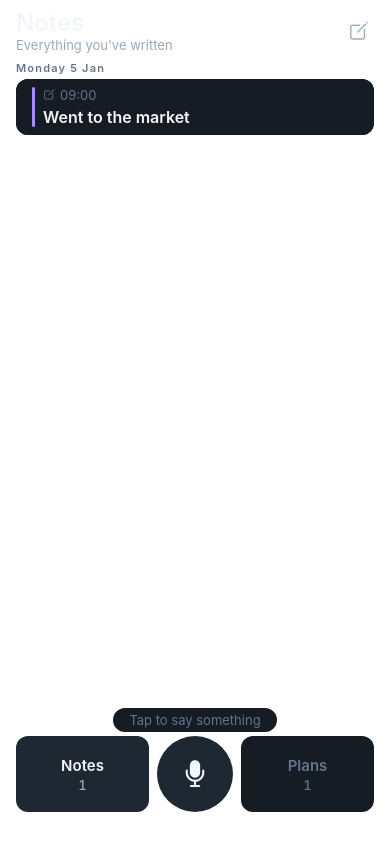
Test: notes and plans › stops a running recording when the other list is pressed
Step 1. Click the tab with aria-label "Plans, 1 entry" → (308, 774), box [241,736,374,812]
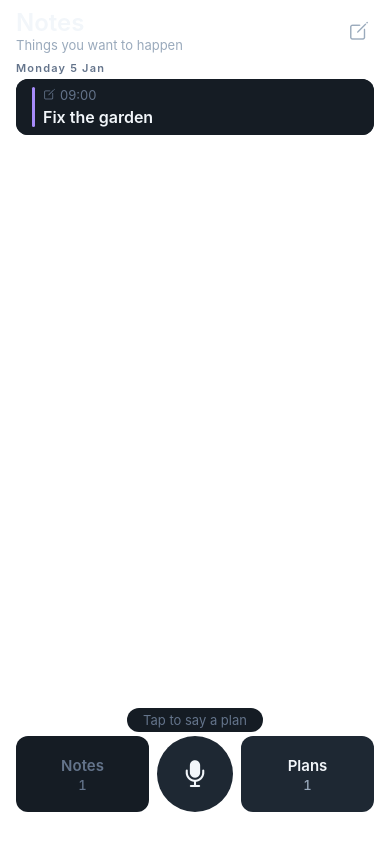
Step 2. Click the button named "Record a voice note" → (195, 774), box [157,736,233,812]
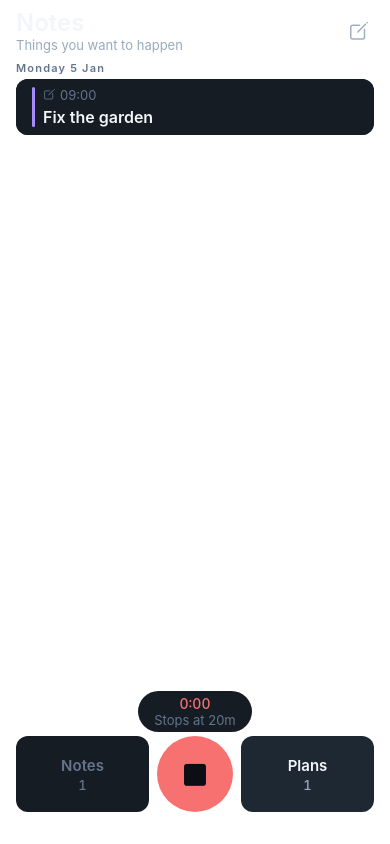
Result: the button named "Stop recording" is shown at [157,736,233,812]
Step 3. Click the tab with aria-label "Notes, 1 entry" → (82, 774), box [16,736,149,812]
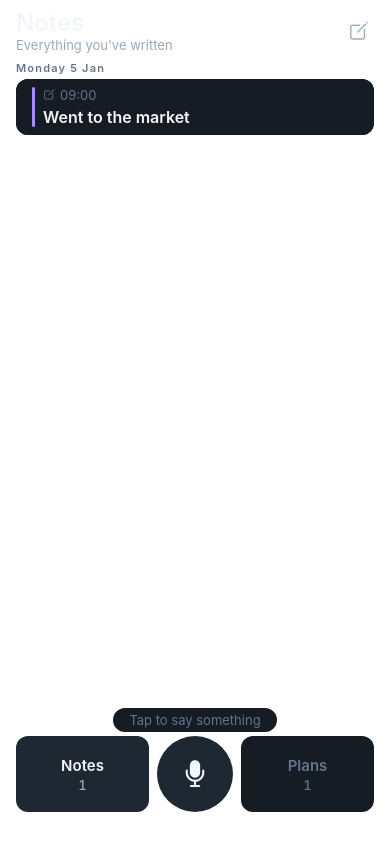
Result: the button named "Record a voice note" is shown at [157,736,233,812]
